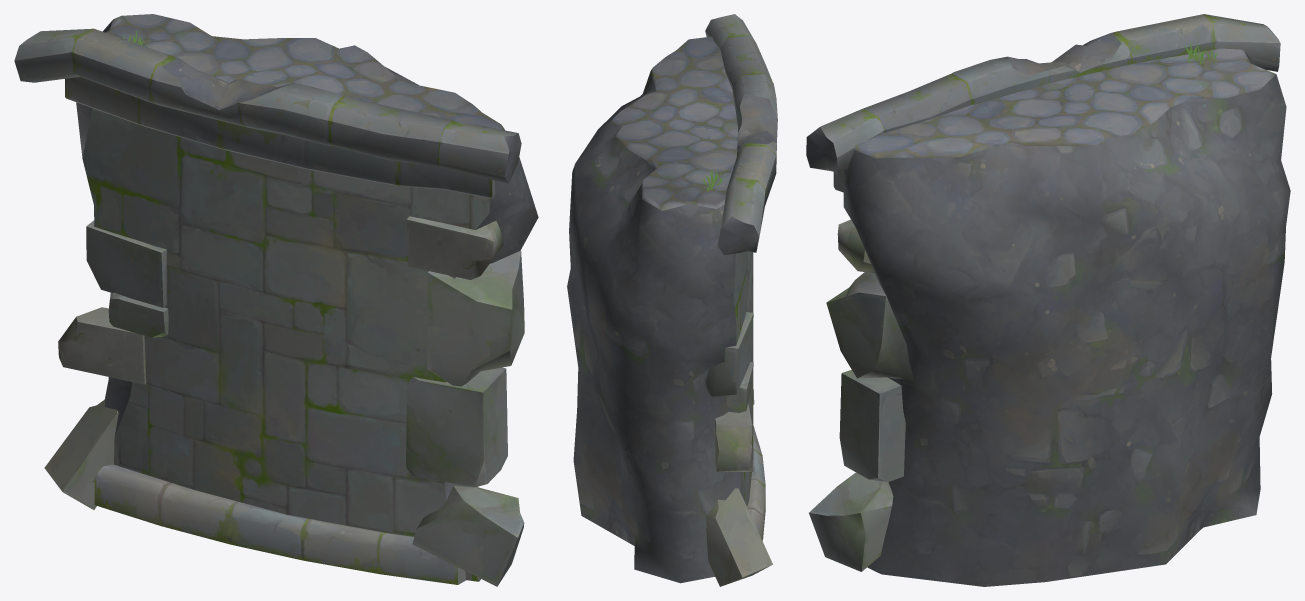
The model's file is Area_MdBuild_SdPlatform13_03_Group.fbx.
The picture shows the model from 3 angles, left to right: view 1: azimuth 30°, elevation 25°; view 2: azimuth 150°, elevation 25°; view 3: azimuth 270°, elevation 25°; orthographic projection. The views are drawn at different scales.
Parts seen in each view (by area): view 1: Area_MdBuild_SdPlatform13_03_Lod0; view 2: Area_MdBuild_SdPlatform13_03_Lod0; view 3: Area_MdBuild_SdPlatform13_03_Lod0.
Boxes of the visible parts, x1,y1,x2,y2 form: Area_MdBuild_SdPlatform13_03_Lod0: (14,14,538,586); Area_MdBuild_SdPlatform13_03_Lod0: (567,14,777,586); Area_MdBuild_SdPlatform13_03_Lod0: (806,14,1290,586).
Bounding box in the file's own units: 8.02 × 10.67 × 10.36.
6 materials, 6 textured.
